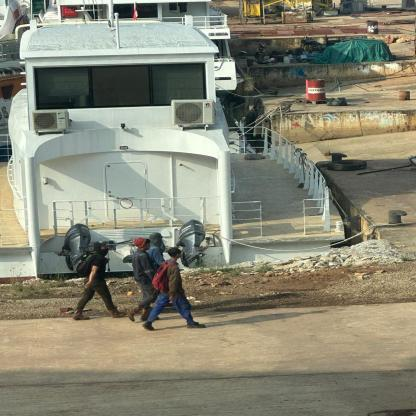bota: (124, 304, 141, 322), (70, 309, 90, 321), (184, 320, 206, 330), (106, 308, 124, 318), (141, 320, 156, 332), (139, 308, 150, 321)
